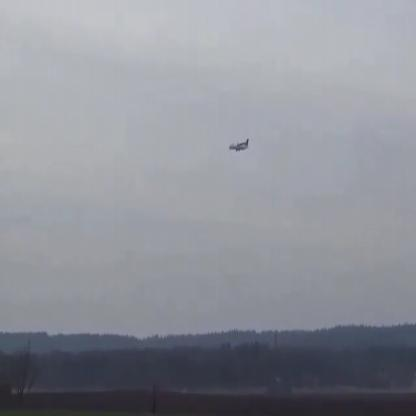CIV_Plane: (229, 139, 249, 153)
